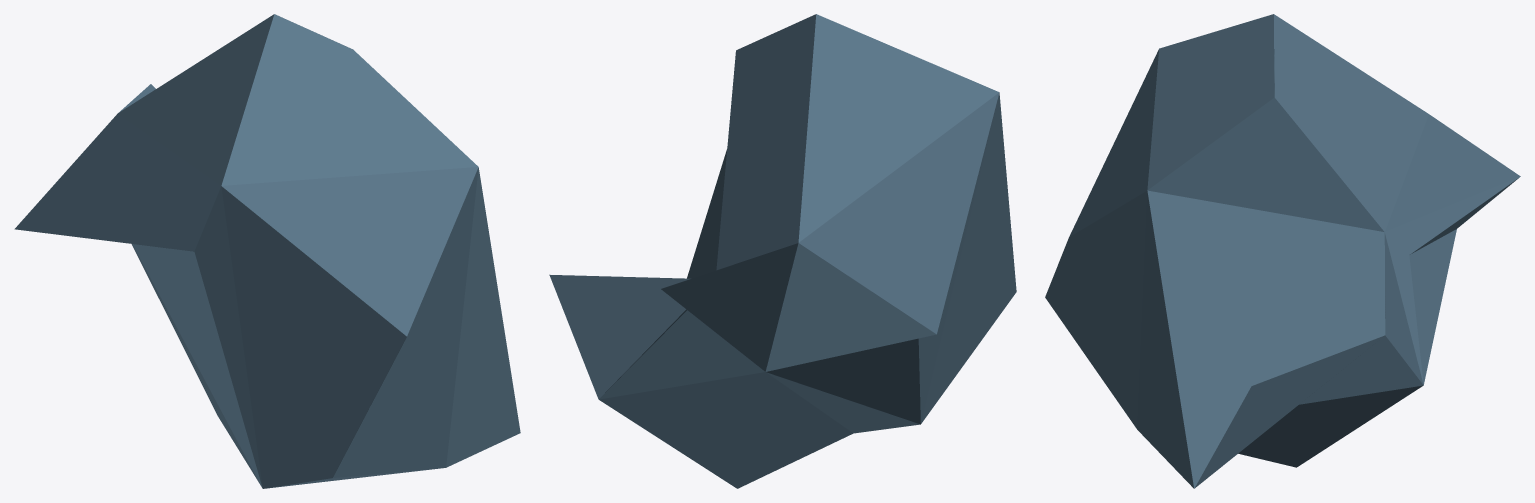
Rendered from particles1.dae.
3 renders of one model, left to right at view 1: azimuth 30°, elevation 25°; view 2: azimuth 150°, elevation 25°; view 3: azimuth 270°, elevation 25°, orthographic. The views are drawn at different scales.
Parts seen in each view (by area): view 1: Platonic; view 2: Platonic; view 3: Platonic.
Boxes of the visible parts, x1,y1,x2,y2 form: Platonic: (14,14,520,488); Platonic: (549,14,1016,488); Platonic: (1045,14,1520,488).
Bounding box in the file's own units: 154 × 179 × 182.
Materials: 2 (1 with a texture image).
